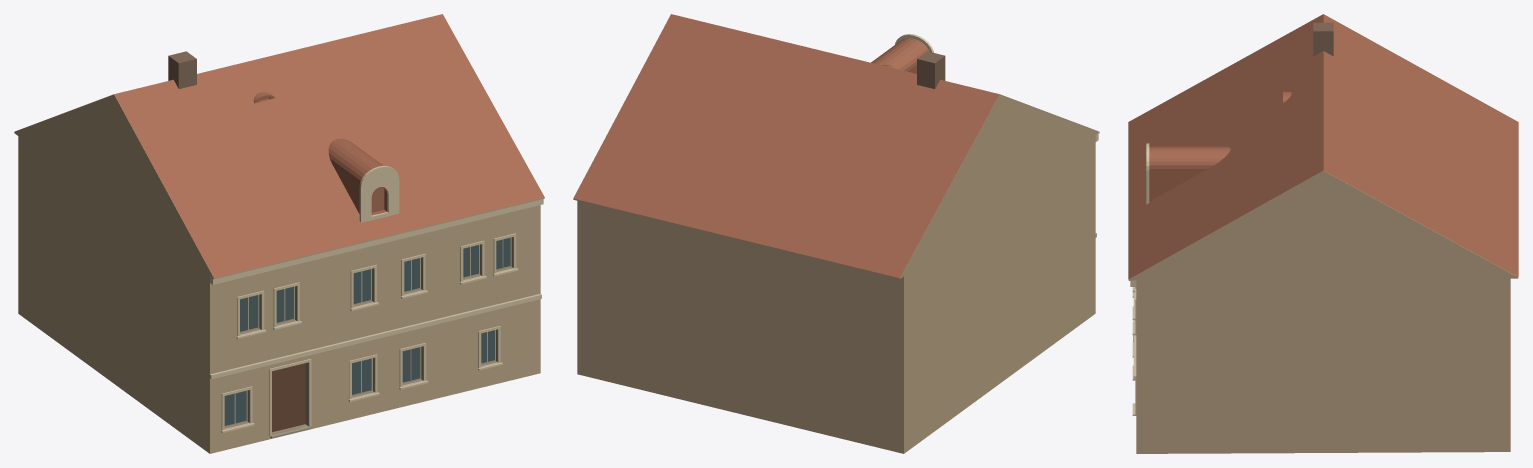
Rendered from 261-claude-pruceli-v1.glb.
The picture shows the model from 3 angles, left to right: view 1: azimuth 30°, elevation 25°; view 2: azimuth 150°, elevation 25°; view 3: azimuth 270°, elevation 25°; orthographic projection. The views are drawn at different scales.
Visible parts, largest first — view 1: Strecha, Pruceli, Hmota, Stresni_prvky; view 2: Hmota, Strecha, Stresni_prvky; view 3: Hmota, Strecha, Stresni_prvky, Pruceli.
Boxes of the visible parts, bbox=[...] form: Strecha: bbox=[15, 14, 544, 277]; Pruceli: bbox=[210, 199, 543, 453]; Hmota: bbox=[14, 94, 544, 453]; Stresni_prvky: bbox=[168, 51, 196, 88]; Hmota: bbox=[573, 94, 1099, 453]; Strecha: bbox=[573, 14, 1097, 277]; Stresni_prvky: bbox=[917, 51, 945, 88]; Hmota: bbox=[1128, 170, 1518, 453]; Strecha: bbox=[1128, 14, 1518, 279]; Stresni_prvky: bbox=[1313, 22, 1333, 56]; Pruceli: bbox=[1130, 280, 1136, 415].
Size of the model in its own units: 13.75 by 12.3 by 14.4.
